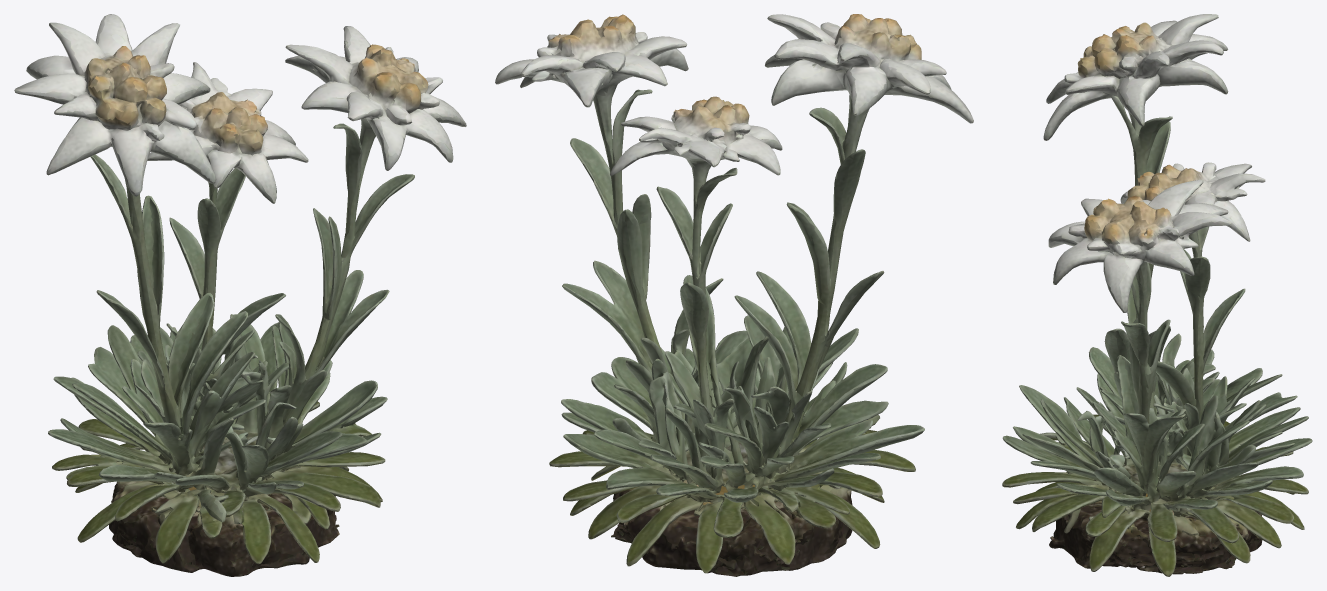
Rendered from edelweiss-v20.glb.
The picture shows the model from 3 angles, left to right: view 1: azimuth 30°, elevation 25°; view 2: azimuth 150°, elevation 25°; view 3: azimuth 270°, elevation 25°; orthographic projection. The views are drawn at different scales.
Visible parts, largest first — view 1: geometry_0; view 2: geometry_0; view 3: geometry_0.
Part boxes in pixels (x1,y1,x2,y2): geometry_0: (14, 14, 466, 576); geometry_0: (495, 14, 973, 576); geometry_0: (1002, 14, 1312, 576).
Bounding box in the file's own units: 0.1922 × 0.2199 × 0.134.
1 material, 1 textured.
